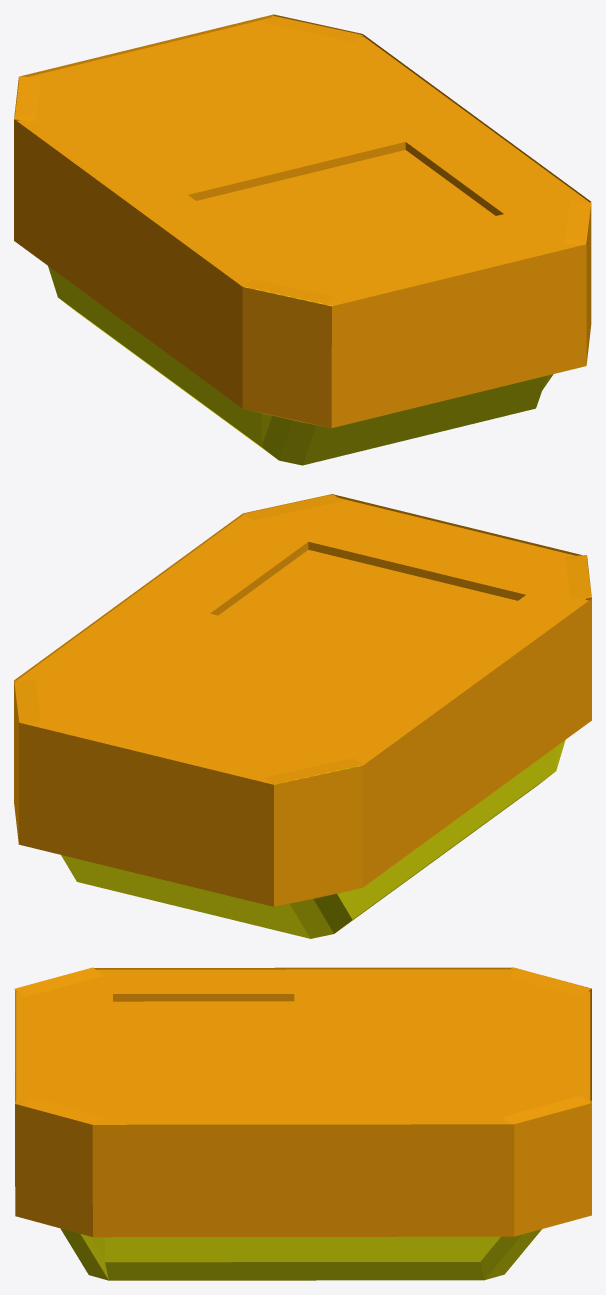
File: cashregistertable.fbx
The picture shows the model from 3 angles, top to bottom: view 1: azimuth 30°, elevation 25°; view 2: azimuth 150°, elevation 25°; view 3: azimuth 270°, elevation 25°; orthographic projection. The views are drawn at different scales.
Visible parts, largest first — view 1: Plane.001; view 2: Plane.001; view 3: Plane.001.
Part boxes in pixels (box(x1,y1,x2,y2)): Plane.001: box(14, 14, 591, 465); Plane.001: box(14, 494, 591, 938); Plane.001: box(14, 967, 591, 1280).
Size of the model in its own units: 453 by 241 by 704.
